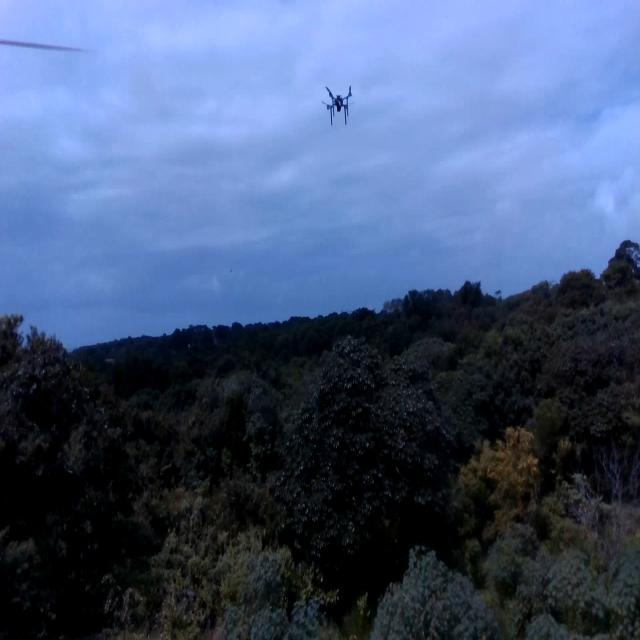-uav-: (314, 79, 359, 130)
